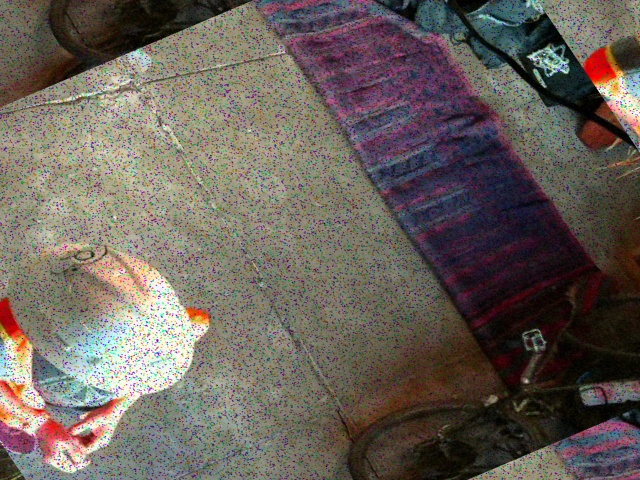eight: (40, 235, 115, 281)
